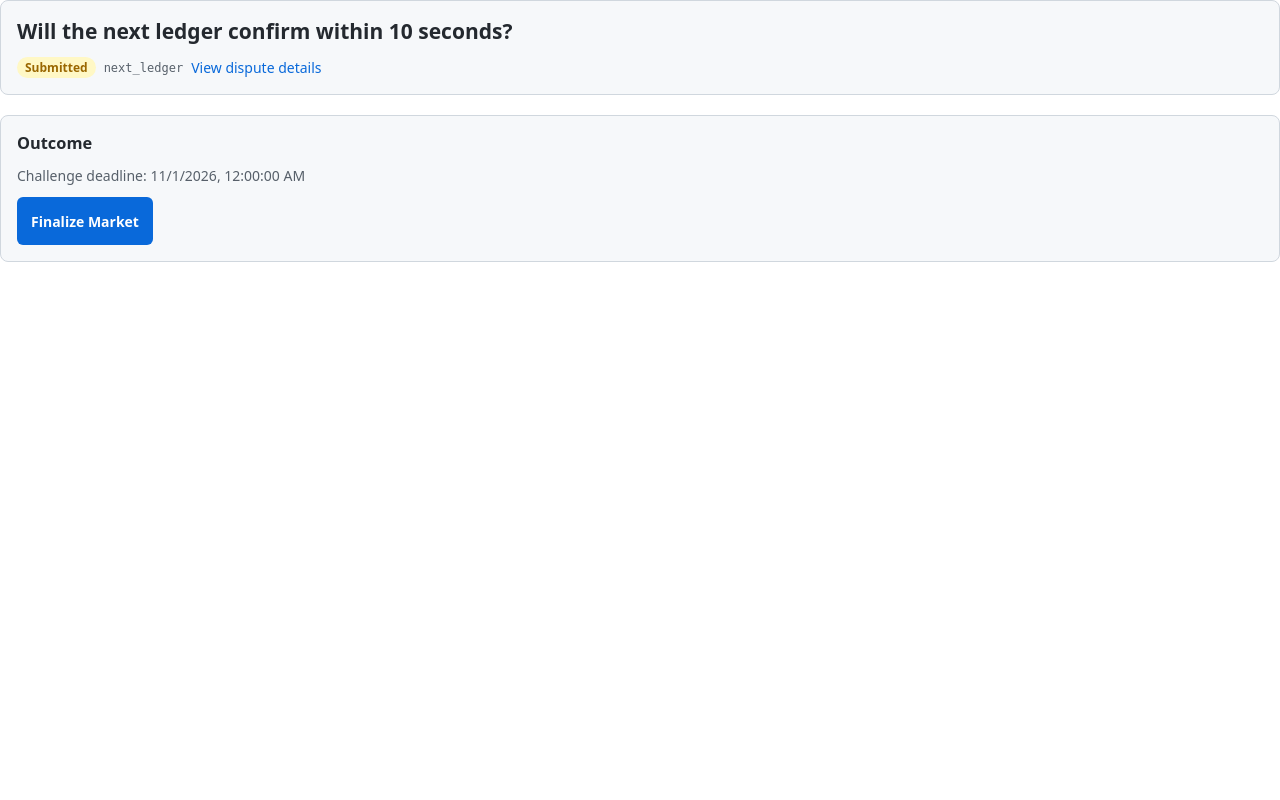
Test: MarketPage › transitions to the claimable state after finalization succeeds
Click the button "Finalize Market" at x=85, y=221, box x1=17 y1=197 x2=153 y2=245
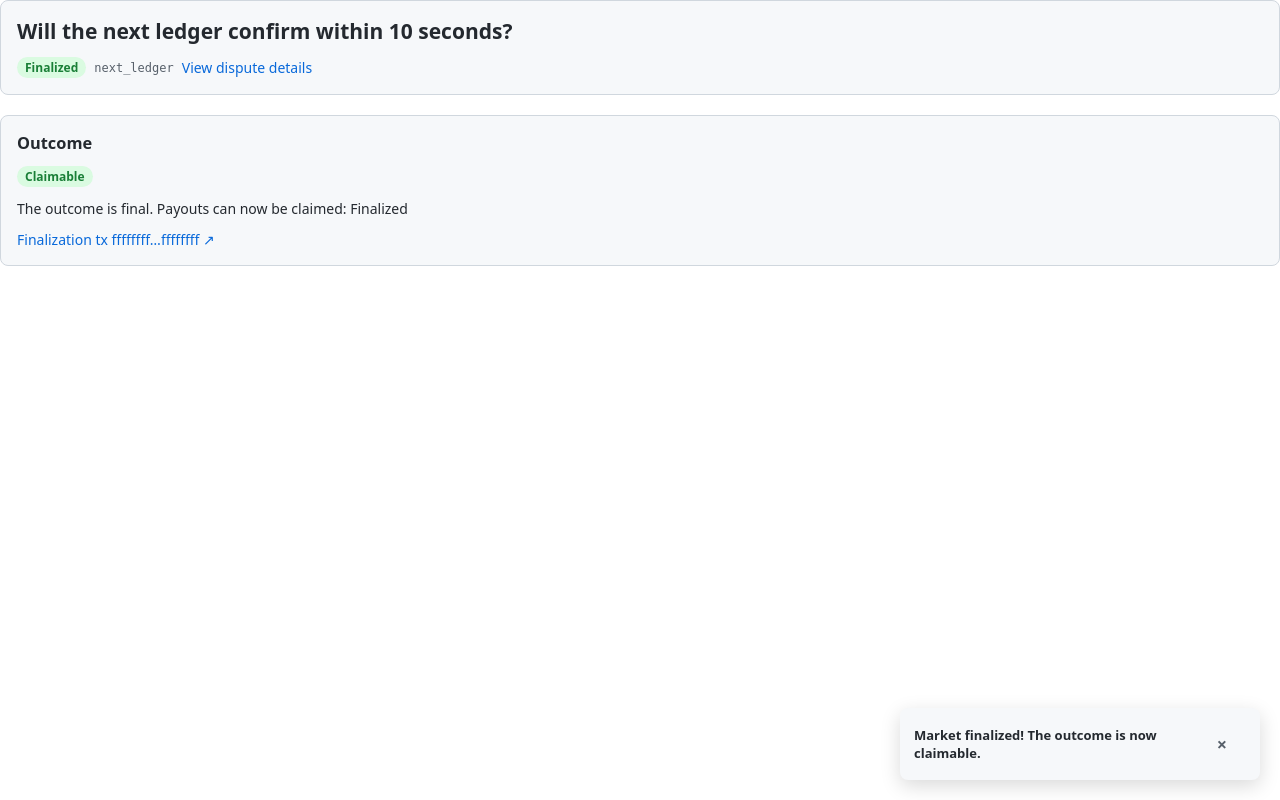
expect the text "Claimable" is shown: met, box x1=17 y1=166 x2=93 y2=187
expect the button "Finalize Market" is gone: met
